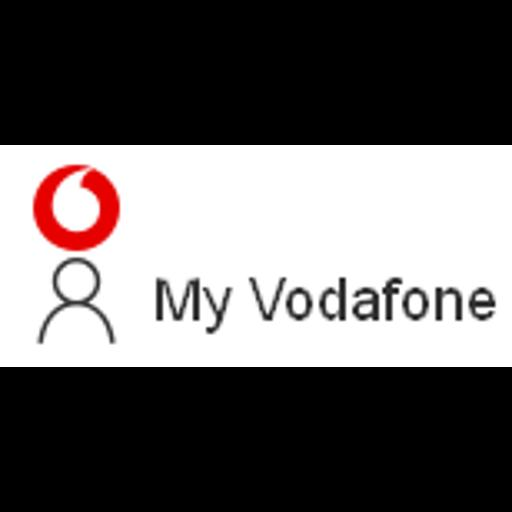Vodafone: (0, 145, 512, 367)
